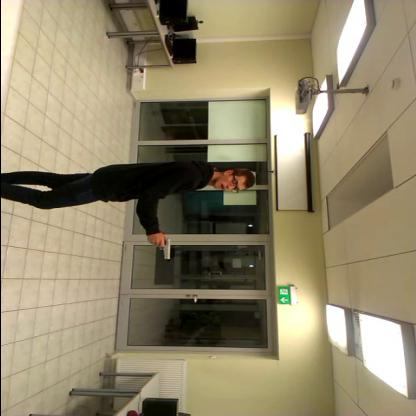Pistol: (149, 236, 178, 262)
